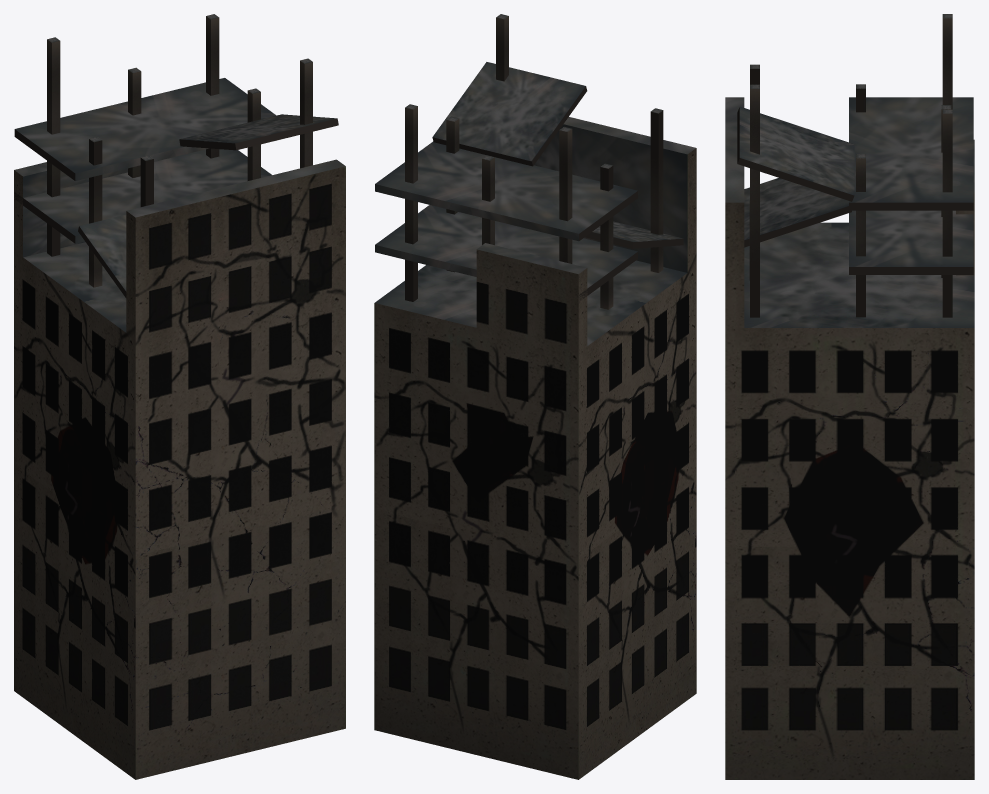
The model's file is Dom_Razrushen.fbx.
3 renders of one model, left to right at view 1: azimuth 30°, elevation 25°; view 2: azimuth 150°, elevation 25°; view 3: azimuth 270°, elevation 25°, orthographic. The views are drawn at different scales.
Visible parts, largest first — view 1: Box105; view 2: Box105; view 3: Box105.
Part boxes in pixels (box(x1,y1,x2,y2)): Box105: box(14, 14, 345, 779); Box105: box(374, 14, 696, 779); Box105: box(725, 14, 974, 779).
Size of the model in its own units: 24.97 by 75.21 by 24.97.
Materials: 1 (1 with a texture image).
